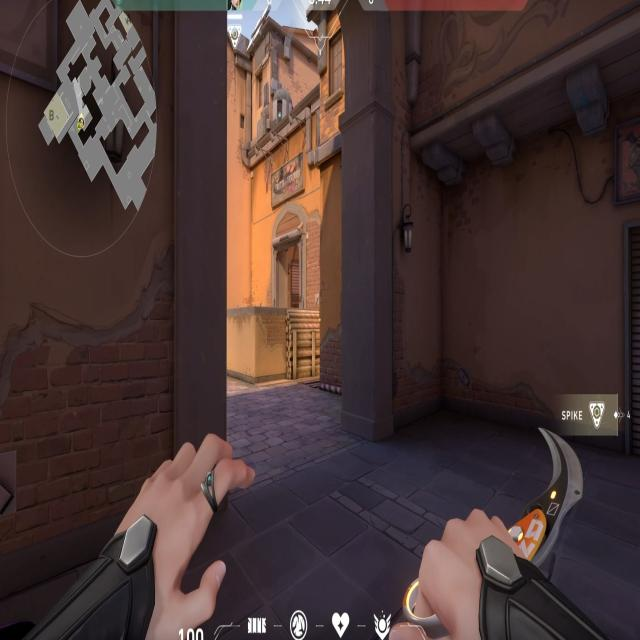B_Cubby: (247, 294, 325, 396)
